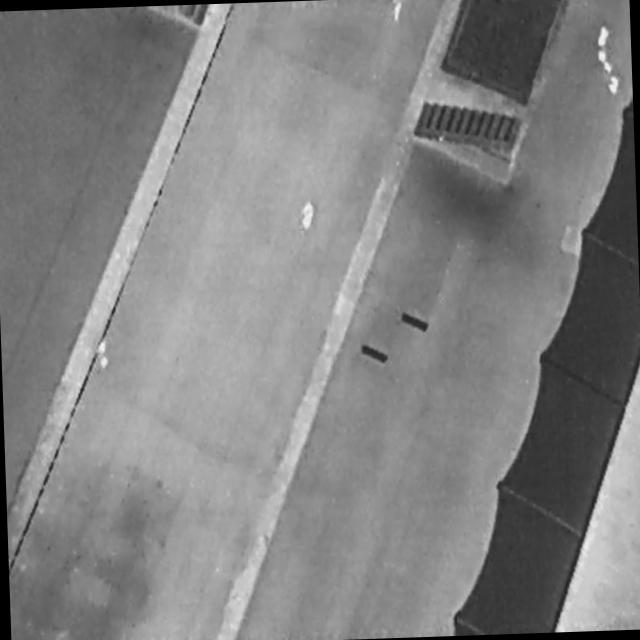person: (298, 197, 318, 235), (95, 340, 110, 374), (390, 1, 403, 22)
